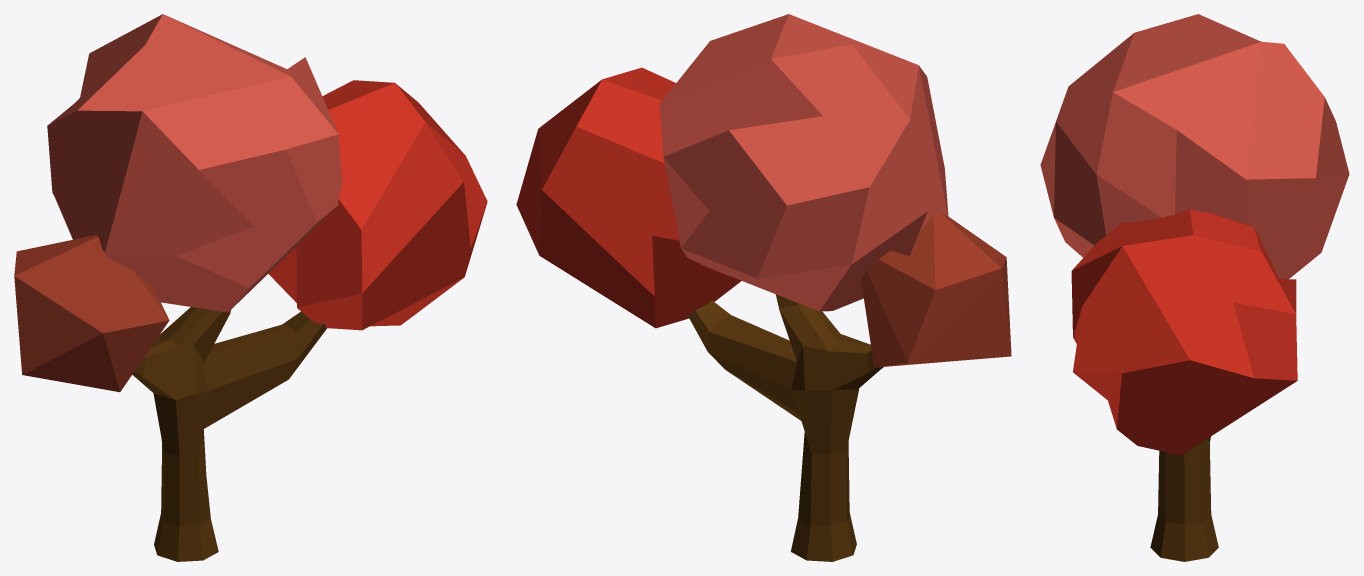
Rendered from tree2.fbx.
The picture shows the model from 3 angles, left to right: view 1: azimuth 30°, elevation 25°; view 2: azimuth 150°, elevation 25°; view 3: azimuth 270°, elevation 25°; orthographic projection. The views are drawn at different scales.
Parts seen in each view (by area): view 1: tree leaf2 layer4, tree leaf1 layer4, tree trunk layer4, tree leaf3 layer4; view 2: tree leaf2 layer4, tree leaf1 layer4, tree trunk layer4, tree leaf3 layer4; view 3: tree leaf2 layer4, tree leaf1 layer4, tree trunk layer4.
Boxes of the visible parts, x1,y1,x2,y2 form: tree leaf2 layer4: [47, 14, 342, 312]; tree leaf1 layer4: [268, 80, 487, 330]; tree trunk layer4: [132, 307, 326, 561]; tree leaf3 layer4: [14, 235, 169, 392]; tree leaf2 layer4: [659, 14, 948, 311]; tree leaf1 layer4: [516, 67, 741, 328]; tree trunk layer4: [688, 294, 883, 561]; tree leaf3 layer4: [861, 211, 1011, 367]; tree leaf2 layer4: [1040, 14, 1349, 279]; tree leaf1 layer4: [1071, 209, 1297, 455]; tree trunk layer4: [1150, 436, 1218, 561].
Size of the model in its own units: 433 by 459 by 249.
